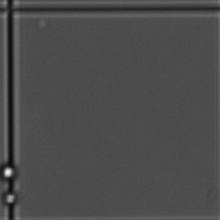Living Cell: (1, 189, 19, 210), (1, 163, 20, 181)
